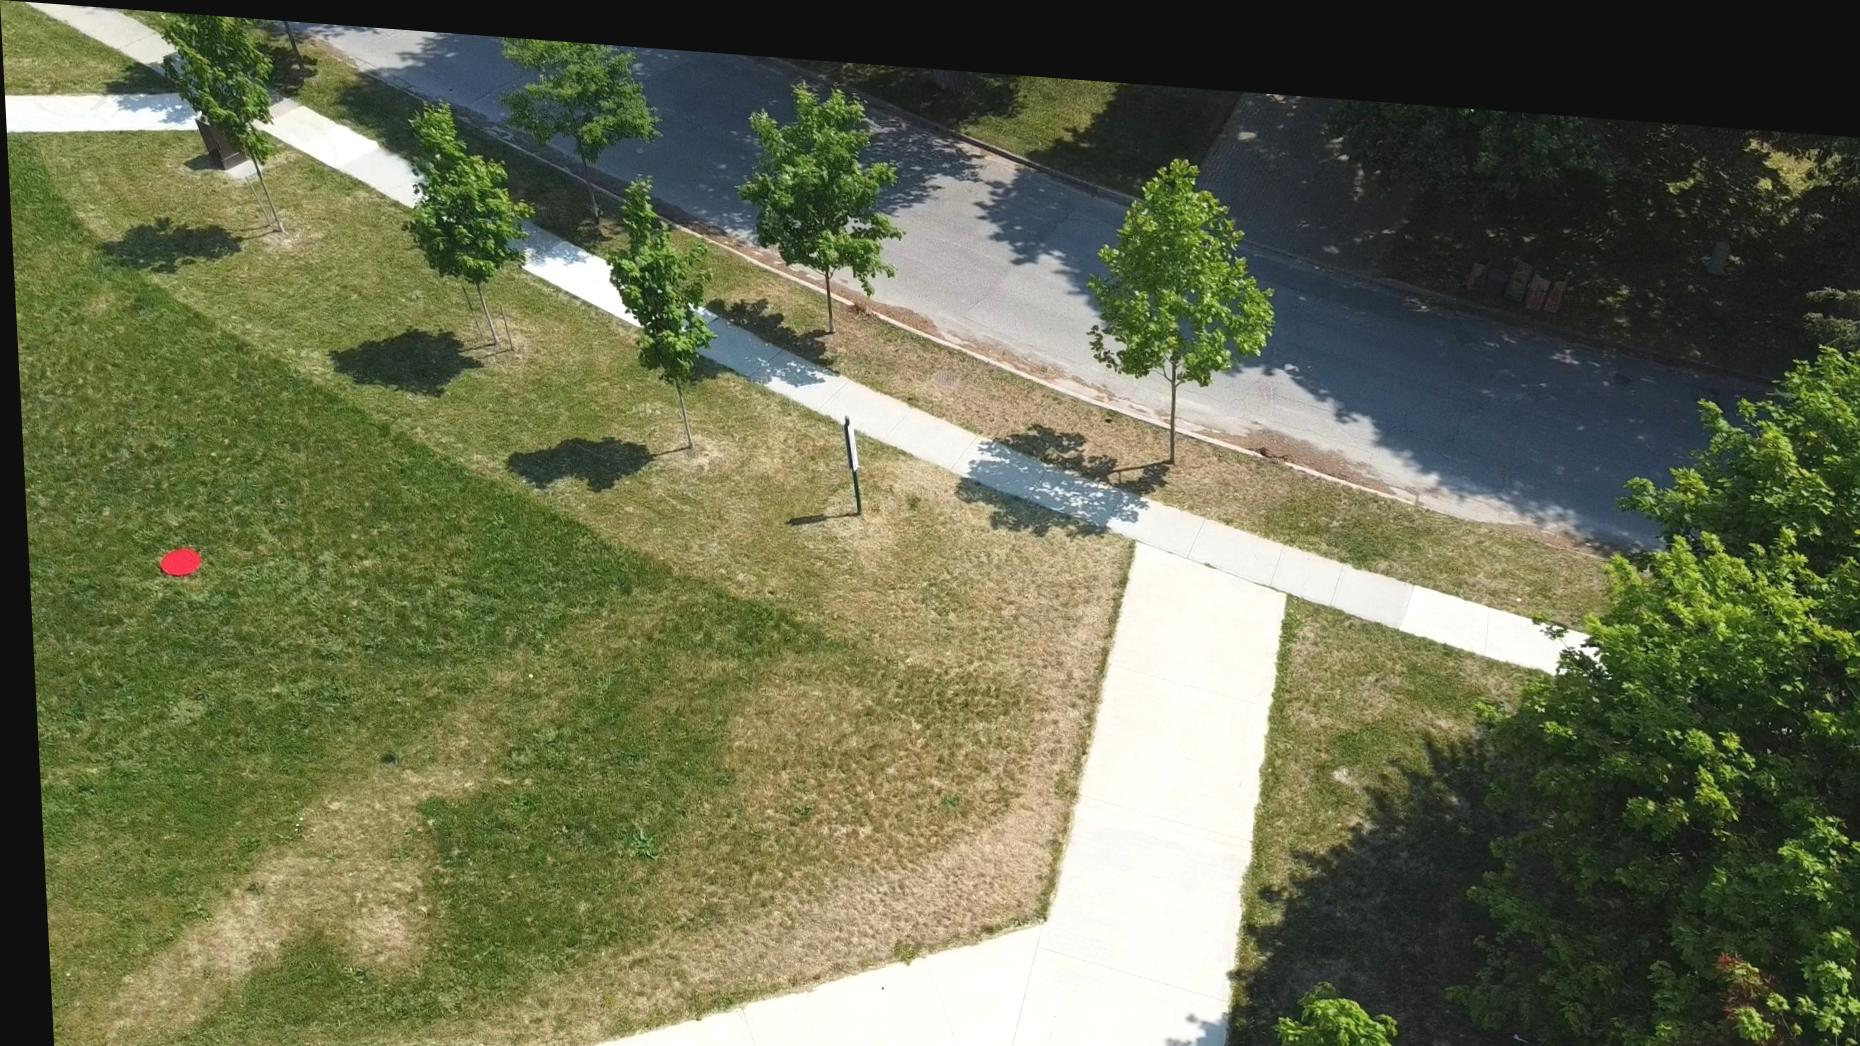Red: (153, 543, 198, 577)
